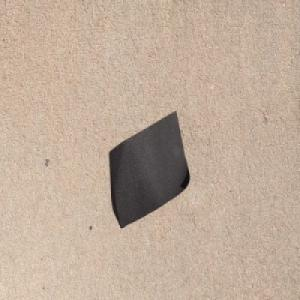PaintChip: (108, 110, 190, 230)
